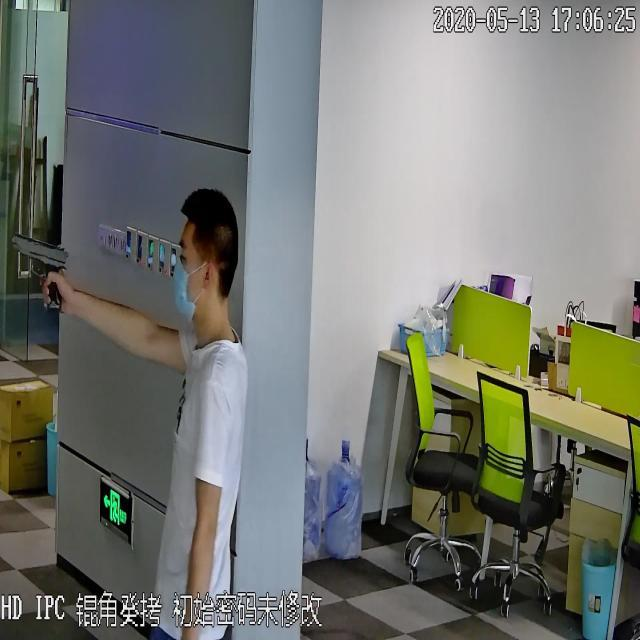gun: (10, 228, 68, 312)
